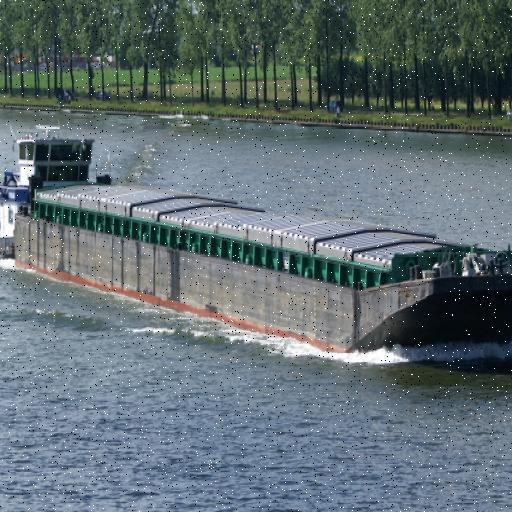tugboat: (1, 119, 117, 283)
